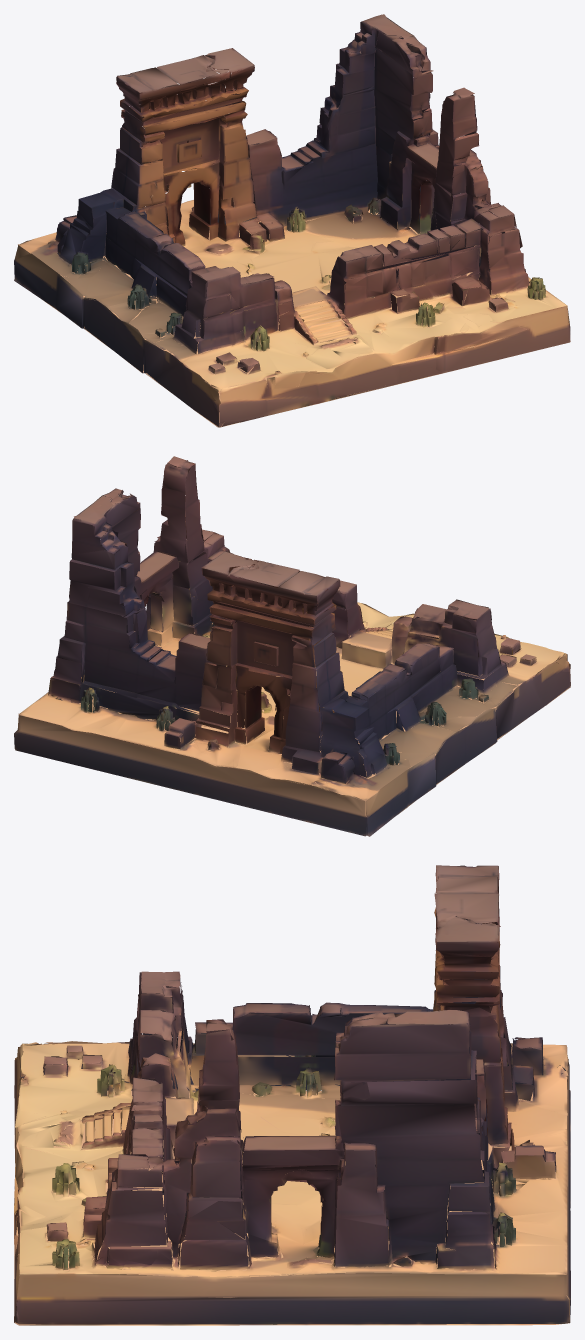
File: desert_relic_with_gate_3.glb
The picture shows the model from 3 angles, top to bottom: view 1: azimuth 30°, elevation 25°; view 2: azimuth 150°, elevation 25°; view 3: azimuth 270°, elevation 25°; orthographic projection. The views are drawn at different scales.
Visible parts, largest first — view 1: node_0; view 2: node_0; view 3: node_0.
Boxes of the visible parts, x1,y1,x2,y2 form: node_0: [14, 14, 570, 427]; node_0: [14, 456, 570, 836]; node_0: [14, 865, 570, 1325].
Bounding box in the file's own units: 0.7936 × 0.4527 × 0.7931.
Materials: 1 (1 with a texture image).
